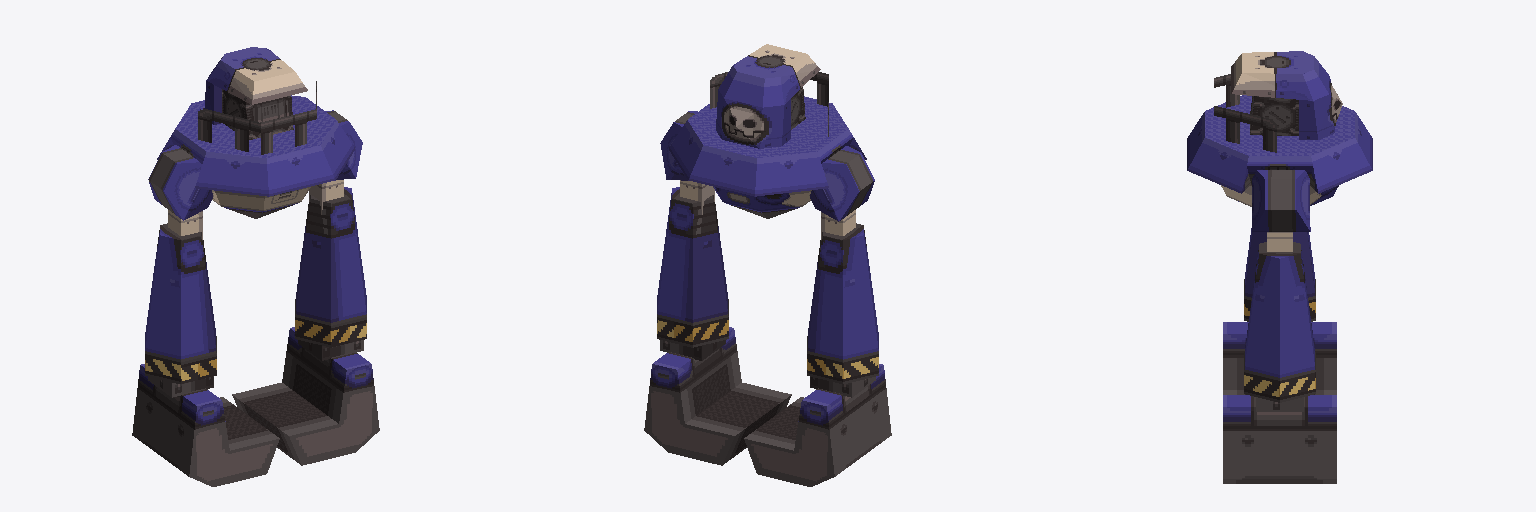
3 renders of one model, left to right at view 1: azimuth 30°, elevation 25°; view 2: azimuth 150°, elevation 25°; view 3: azimuth 270°, elevation 25°, orthographic.
Parts seen in each view (by area): view 1: Mesh; view 2: Mesh; view 3: Mesh.
Boxes of the visible parts, <box> form: Mesh: <box>132,47,379,486</box>; Mesh: <box>644,44,891,486</box>; Mesh: <box>1187,51,1372,483</box>.
Size of the model in its own units: 134 by 222 by 96.7.
1 materials, 1 textured.